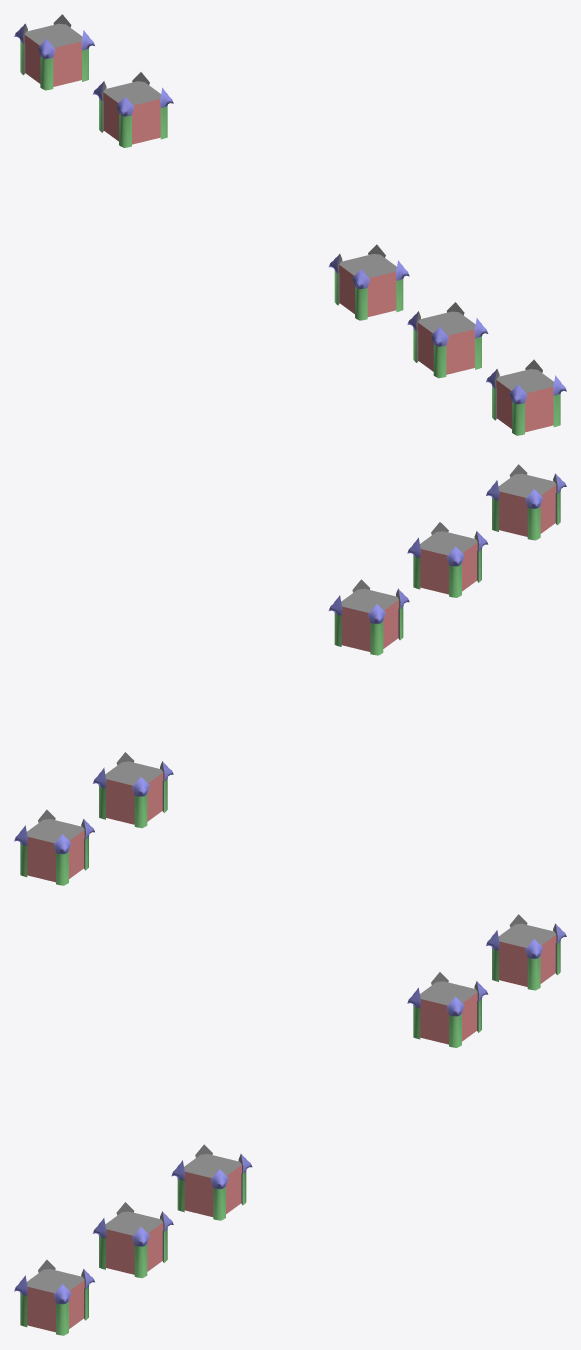
File: SSQ_dungeon_S__SSQ_MRoom_pillar01.gltf
The picture shows the model from 3 angles, top to bottom: view 1: azimuth 30°, elevation 25°; view 2: azimuth 150°, elevation 25°; view 3: azimuth 330°, elevation 25°; orthographic projection.
Parts seen in each view (by area): view 1: SSQ_MRoom_pillar01; view 2: SSQ_MRoom_pillar01; view 3: SSQ_MRoom_pillar01.
Boxes of the visible parts, x1,y1,x2,y2 form: SSQ_MRoom_pillar01: [14, 14, 566, 435]; SSQ_MRoom_pillar01: [14, 464, 566, 885]; SSQ_MRoom_pillar01: [14, 914, 566, 1335].
Size of the model in its own units: 0.9691 by 0.892 by 16.33.
